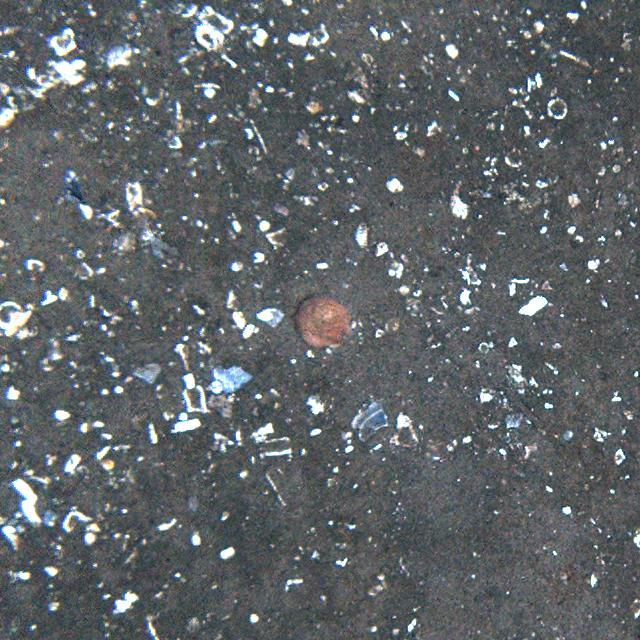scallop: (294, 294, 352, 352)
